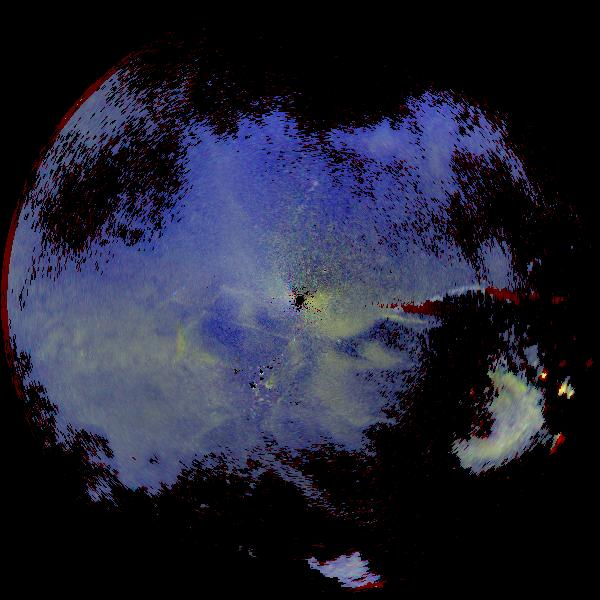roost: (132, 321, 201, 390)
